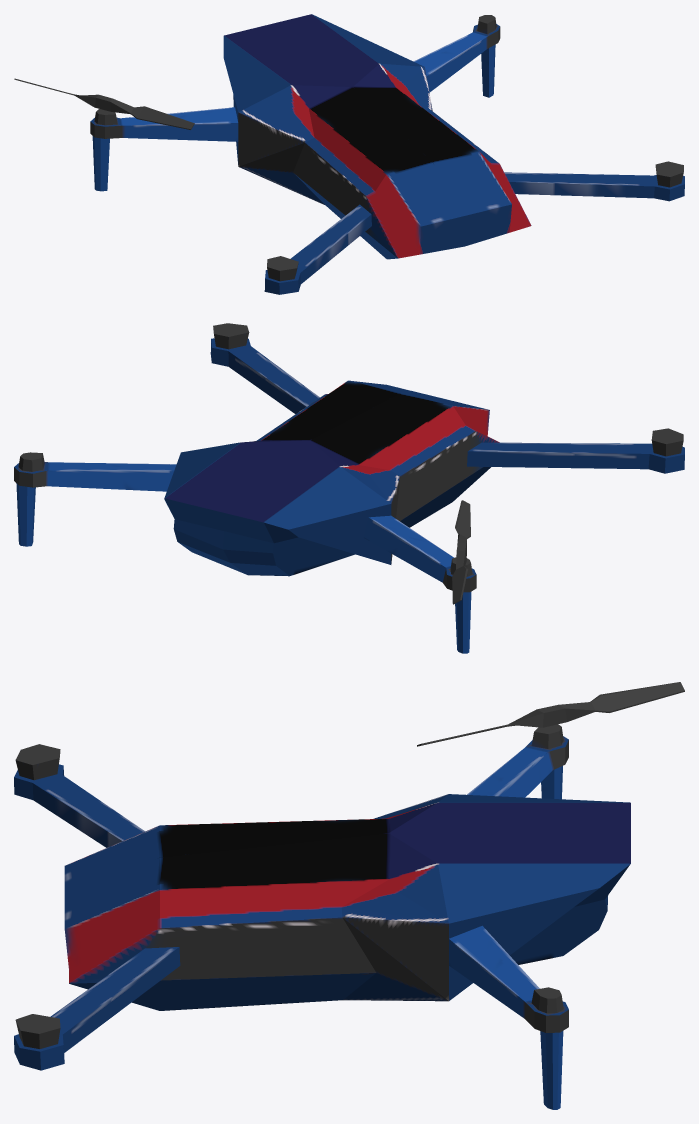
Rendered from Drone_body.fbx.
The picture shows the model from 3 angles, top to bottom: view 1: azimuth 30°, elevation 25°; view 2: azimuth 150°, elevation 25°; view 3: azimuth 270°, elevation 25°; orthographic projection. The views are drawn at different scales.
Visible parts, largest first — view 1: Drone, Helice.003; view 2: Drone, Helice.003; view 3: Drone, Helice.003.
Boxes of the visible parts, bbox=[...] form: Drone: bbox=[90, 14, 684, 294]; Helice.003: bbox=[14, 78, 194, 129]; Drone: bbox=[14, 323, 684, 653]; Helice.003: bbox=[452, 500, 470, 604]; Drone: bbox=[14, 724, 630, 1109]; Helice.003: bbox=[417, 682, 684, 746].
Size of the model in its own units: 406 by 93.16 by 371.
